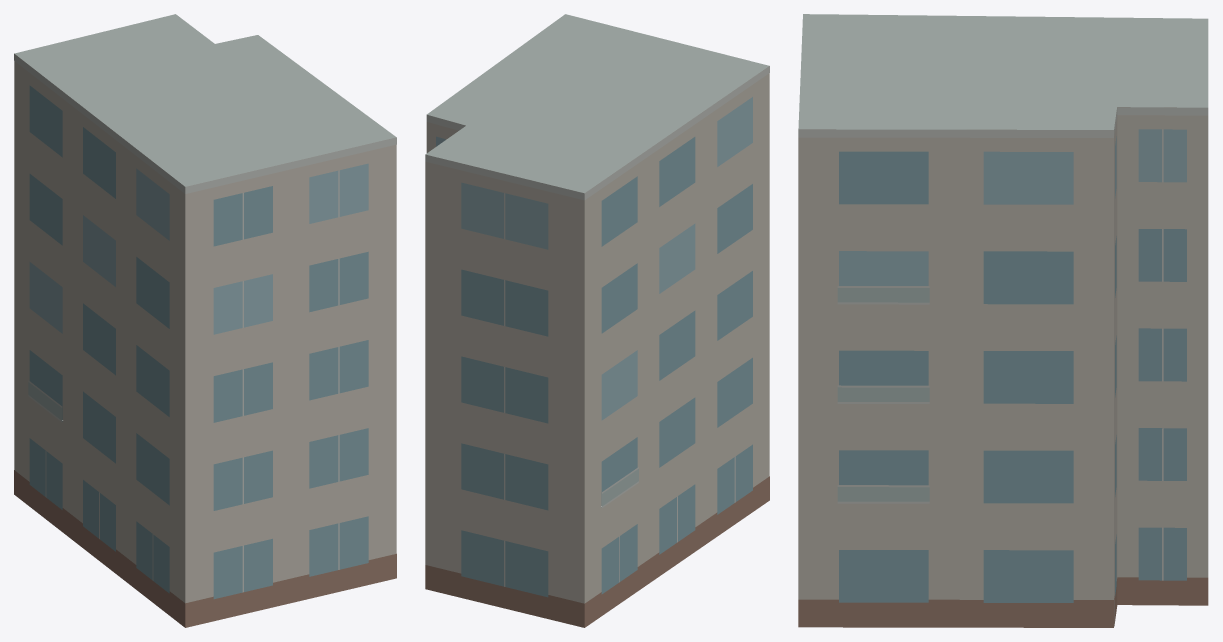
The model's file is survey-upis-32686639.glb.
The picture shows the model from 3 angles, left to right: view 1: azimuth 30°, elevation 25°; view 2: azimuth 150°, elevation 25°; view 3: azimuth 270°, elevation 25°; orthographic projection. The views are drawn at different scales.
Parts seen in each view (by area): view 1: survey-upis-32686639.tmp; view 2: survey-upis-32686639.tmp; view 3: survey-upis-32686639.tmp.
Boxes of the visible parts, x1=… form: survey-upis-32686639.tmp: x1=14, y1=14, x2=396, y2=627; survey-upis-32686639.tmp: x1=425, y1=14, x2=769, y2=627; survey-upis-32686639.tmp: x1=798, y1=14, x2=1208, y2=627.
Bounding box in the file's own units: 7.49 × 14.95 × 11.17.
